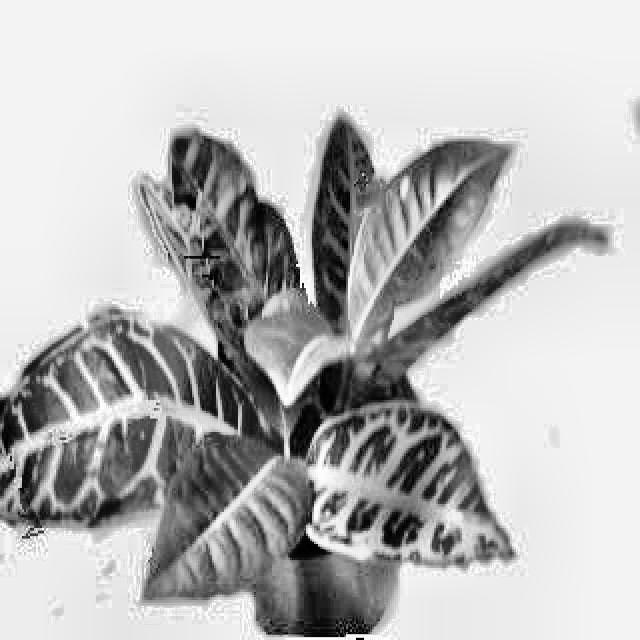plants: (6, 109, 604, 596)
